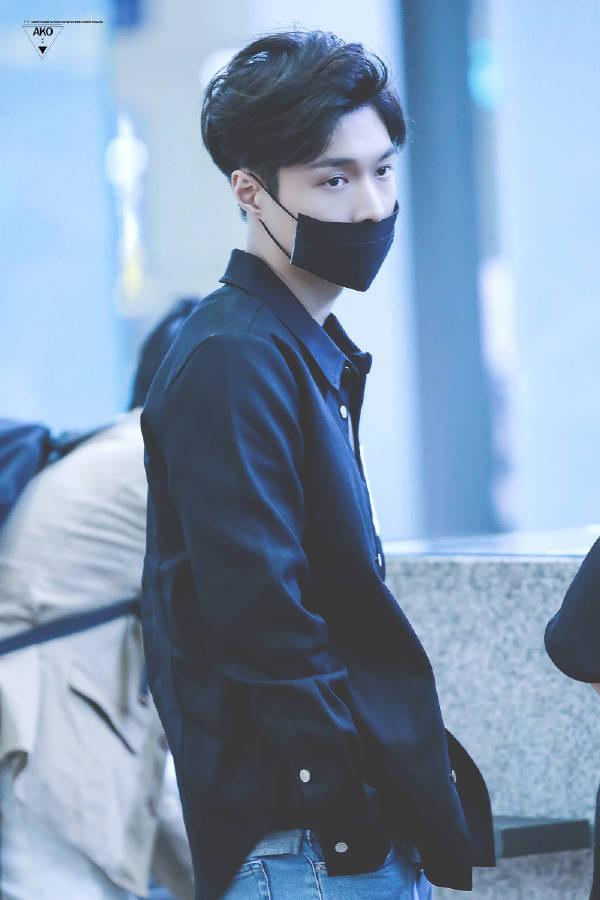WRONG: (284, 132, 402, 291)
